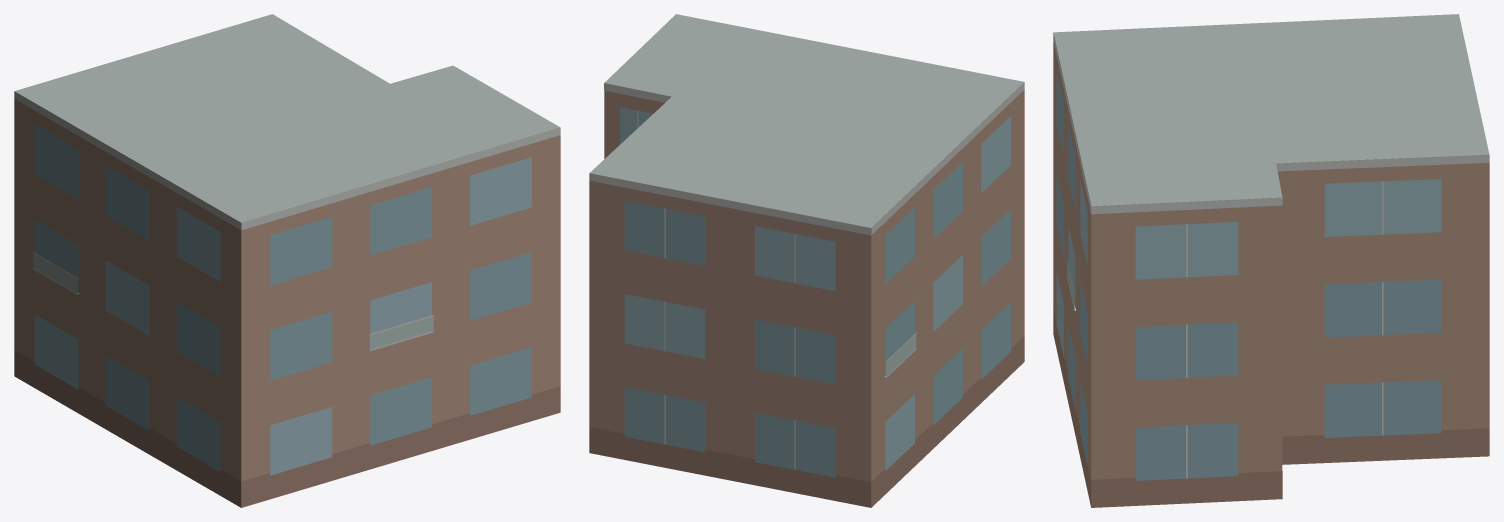
The model's file is survey-upis-32670458.glb.
3 renders of one model, left to right at view 1: azimuth 30°, elevation 25°; view 2: azimuth 150°, elevation 25°; view 3: azimuth 270°, elevation 25°, orthographic. The views are drawn at different scales.
Visible parts, largest first — view 1: survey-upis-32670458.tmp; view 2: survey-upis-32670458.tmp; view 3: survey-upis-32670458.tmp.
Part boxes in pixels (x1,y1,x2,y2): survey-upis-32670458.tmp: [14, 14, 560, 507]; survey-upis-32670458.tmp: [589, 14, 1024, 507]; survey-upis-32670458.tmp: [1053, 14, 1489, 507].
Bounding box in the file's own units: 12.53 × 9.15 × 12.
